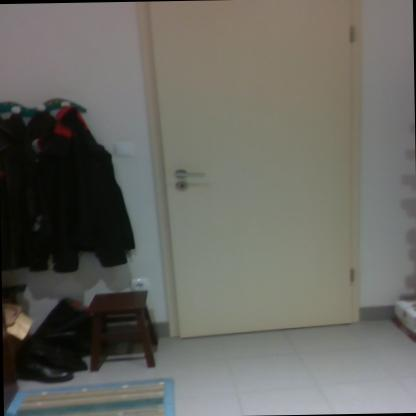closed: (143, 0, 373, 360)
